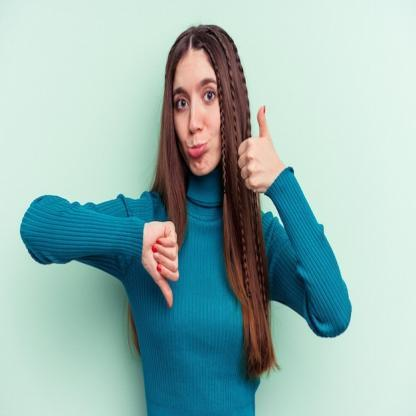thumb_down: (144, 218, 182, 312)
thumb_up: (235, 104, 278, 194)
